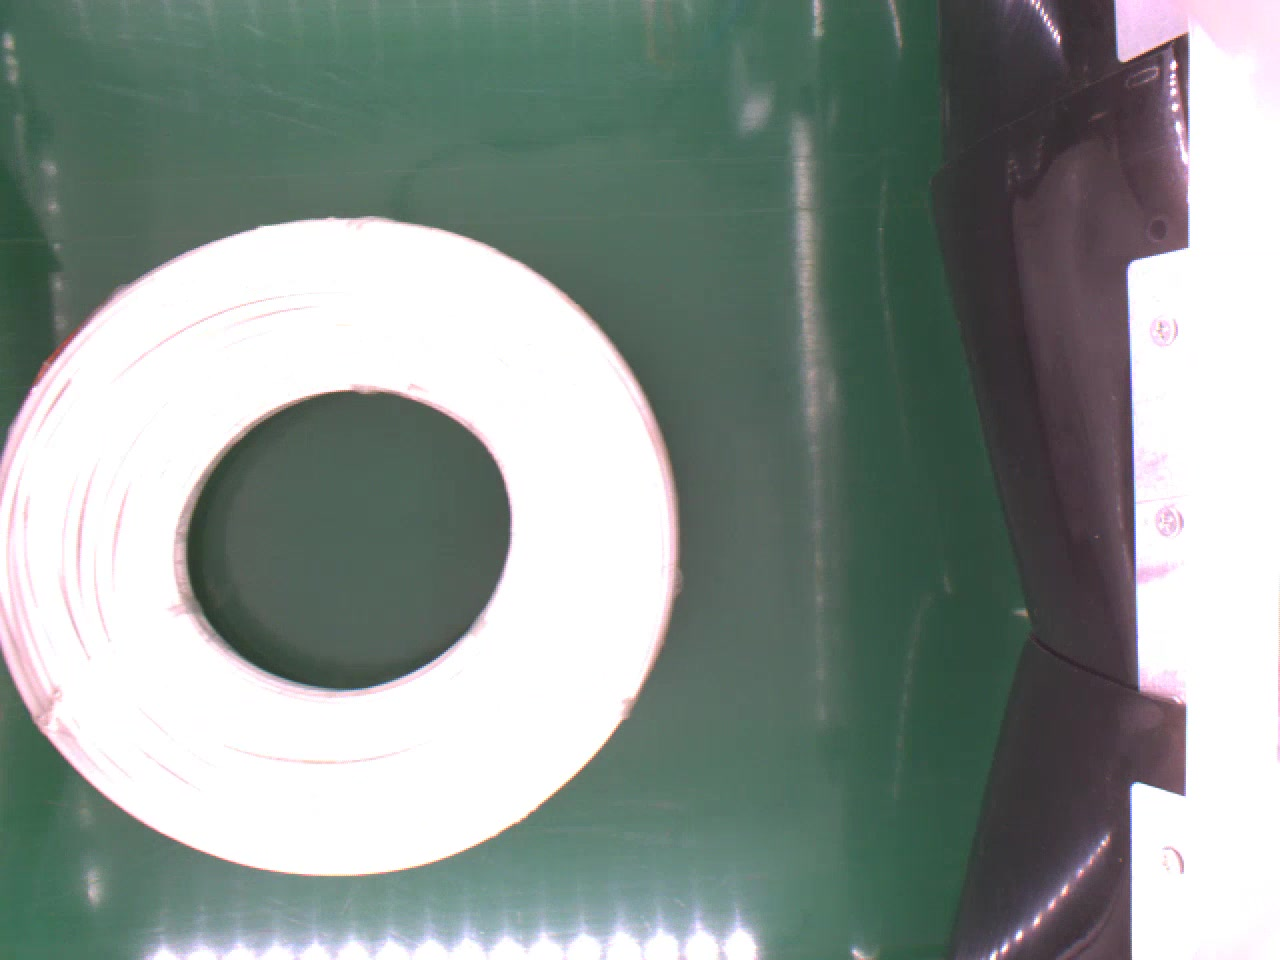white: (0, 210, 689, 887)
